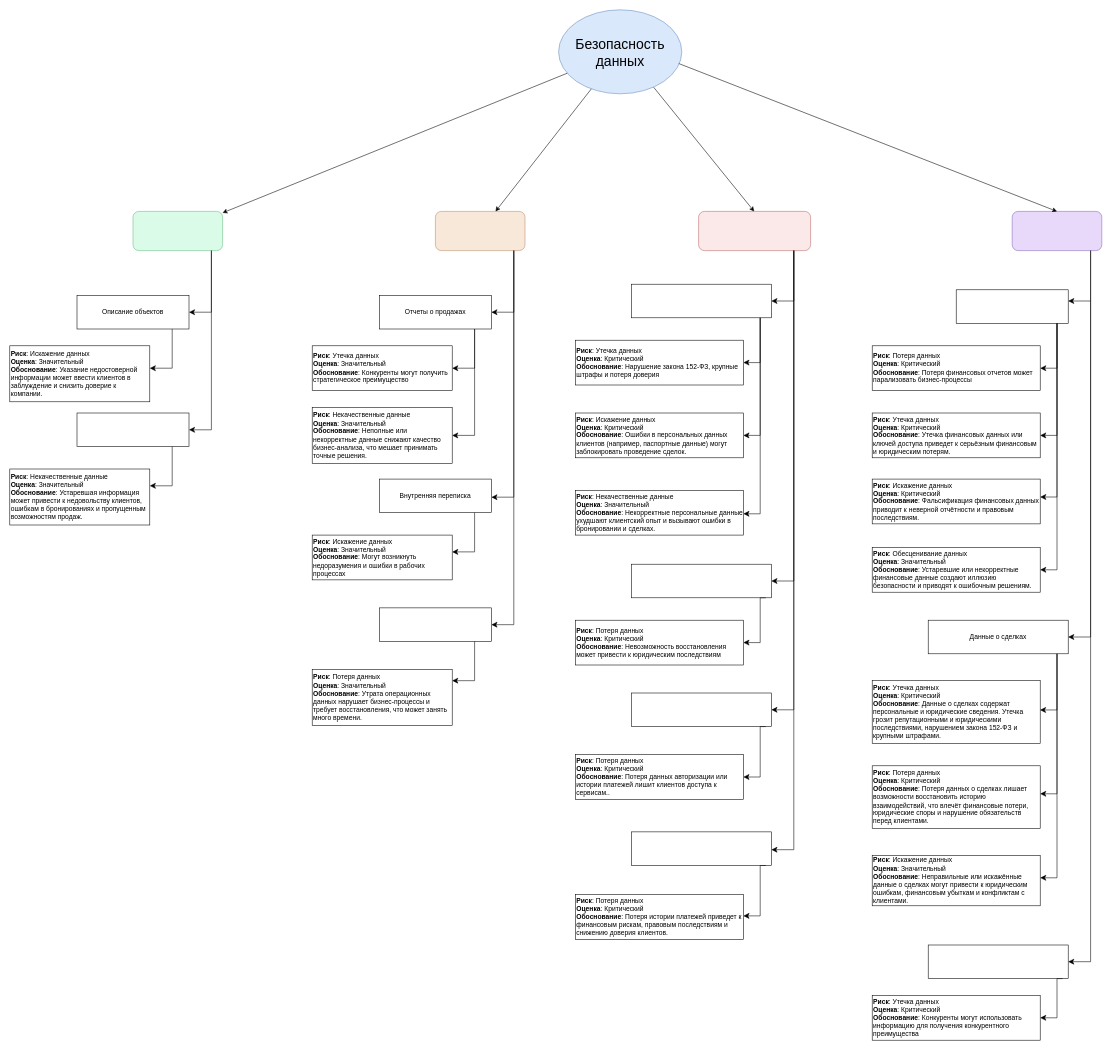
Image size: 1112x1050. Some labels were removed from this diagram. The box of each missing label's shape, as (x1, y1, x2, y2) in pixels:
Внутренние данные: (435, 211, 525, 251)
Данные авторизации: (631, 692, 771, 727)
Договоры с клиентами: (631, 564, 771, 598)
История платежей: (631, 831, 771, 865)
Конфиденциальные данные: (698, 211, 811, 251)
О перационные данные: (379, 607, 491, 641)
Общая информация о компании: (76, 412, 189, 447)
Персональные данные клиентов: (631, 284, 771, 318)
Планы стратегического развития: (928, 944, 1068, 979)
Публичные данные: (132, 211, 223, 251)
Секретные данные: (1012, 211, 1102, 251)
Финансовая информация: (956, 289, 1068, 323)
